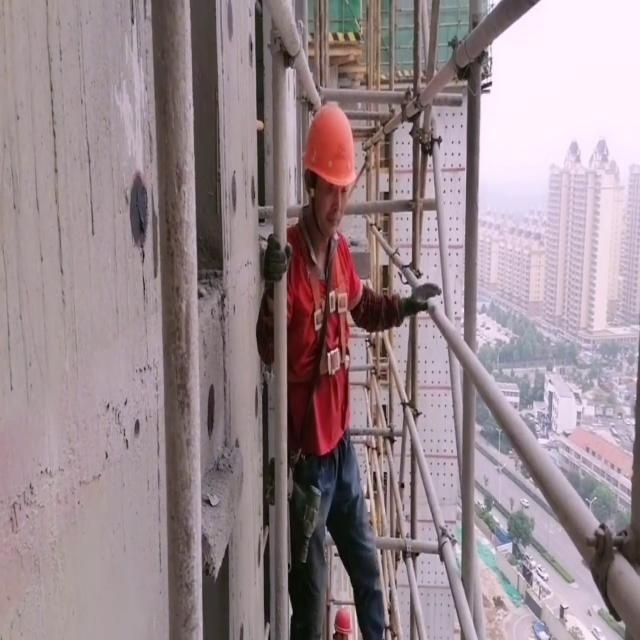Arnes_seguridad: (286, 214, 360, 396)
